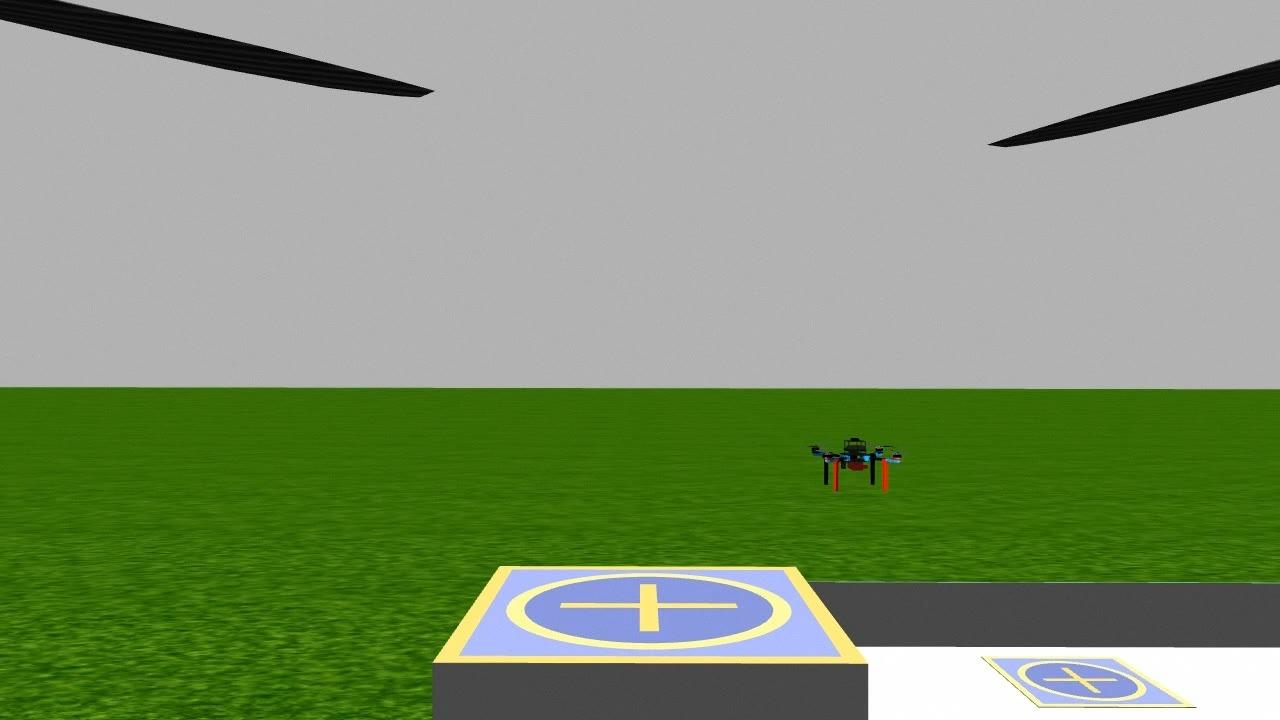UAV: (794, 430, 918, 501)
